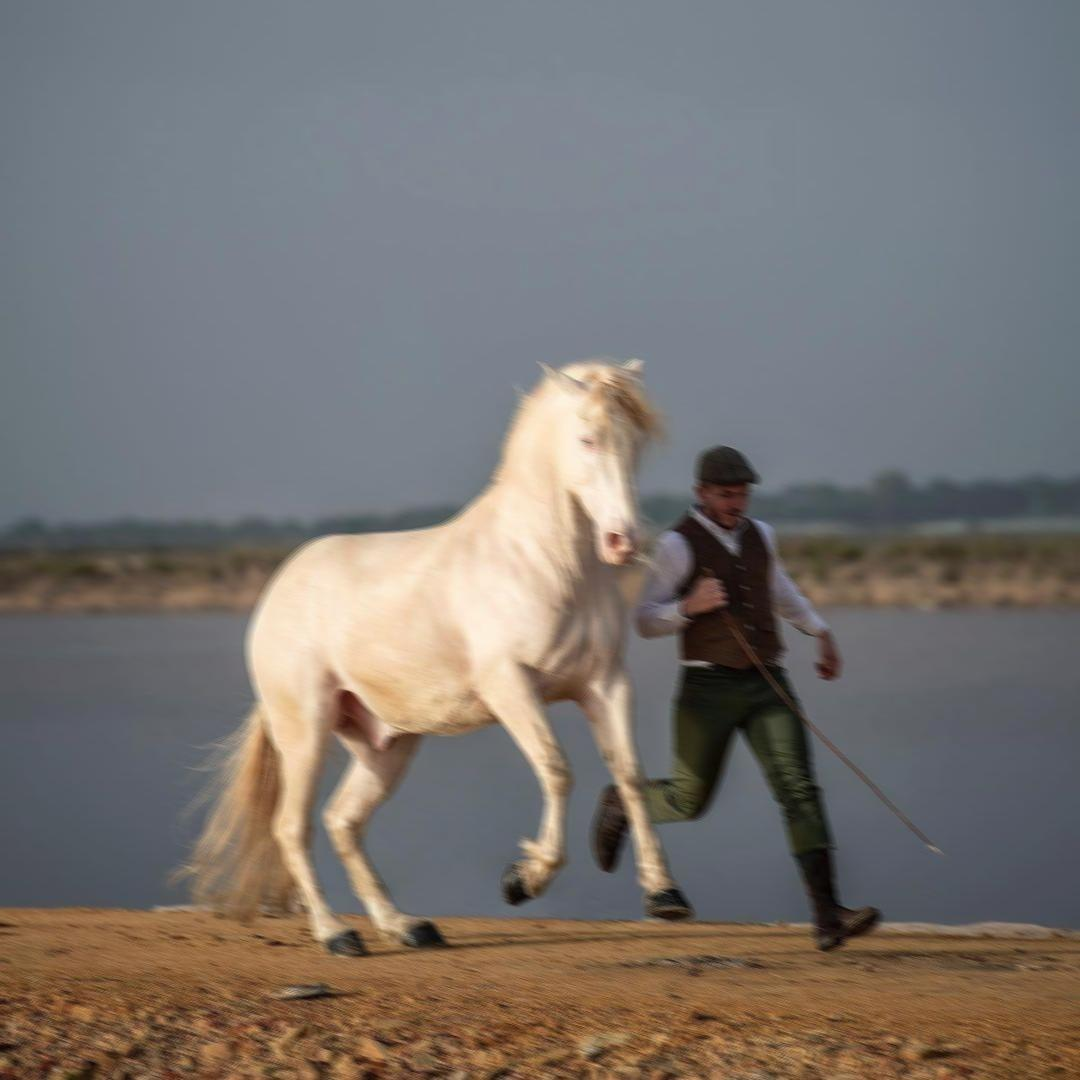horse: (163, 355, 694, 957)
